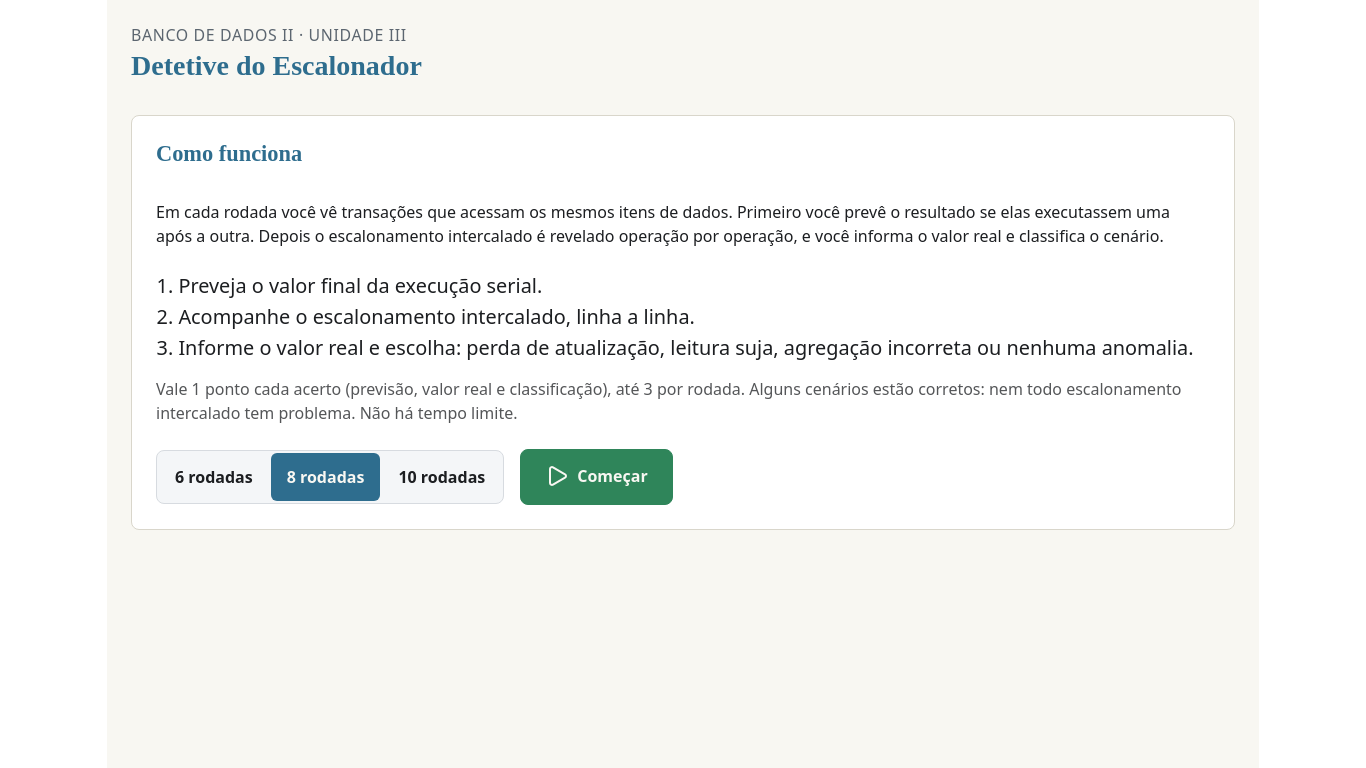
Scenario: Detetive do Escalonador › mostra as transações e pede a previsão serial antes de revelar qualquer linha
Click the button "Começar": (596,477) 520,449 -> 673,505
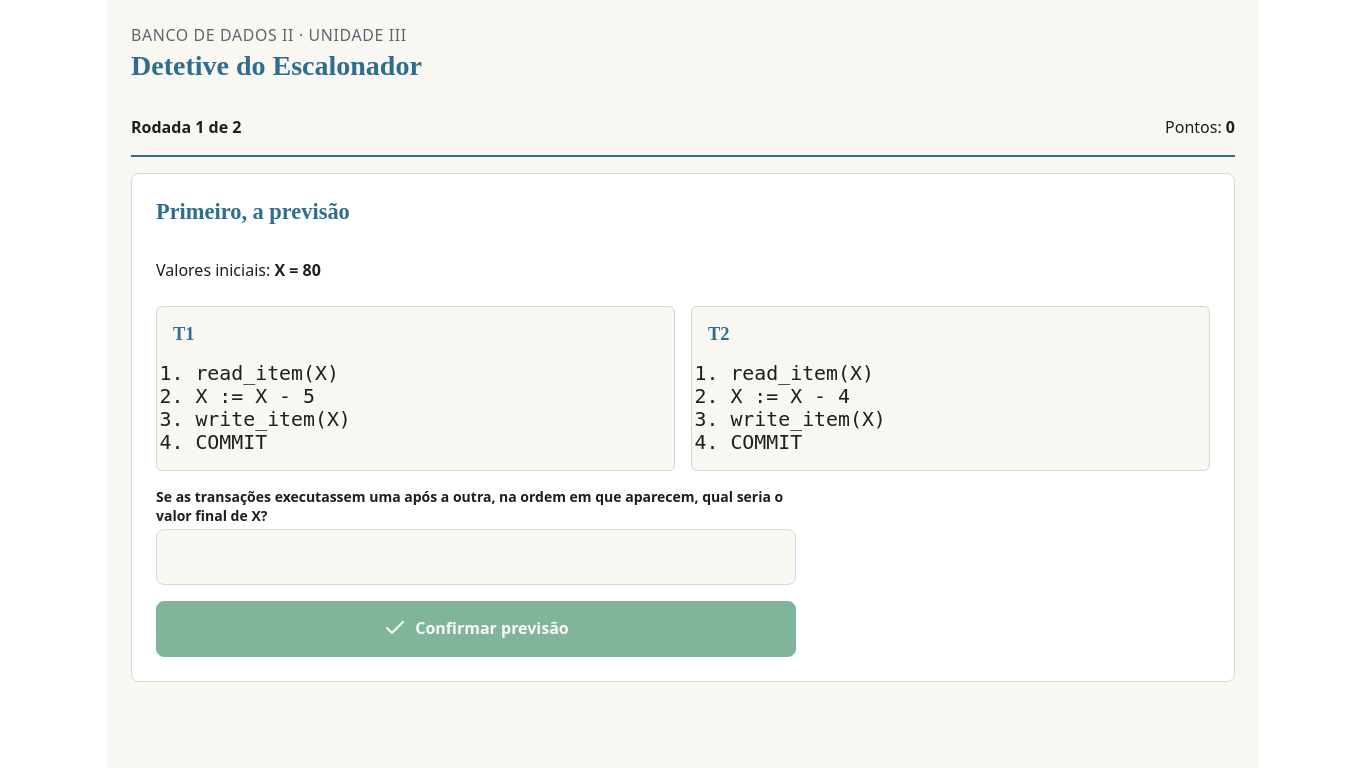
Expected: the text "Valores iniciais:" shows "X = 80", 274,259 -> 321,281
Expected: the field labelled "Se as transações executassem uma após a outra" is shown, 156,529 -> 796,585
